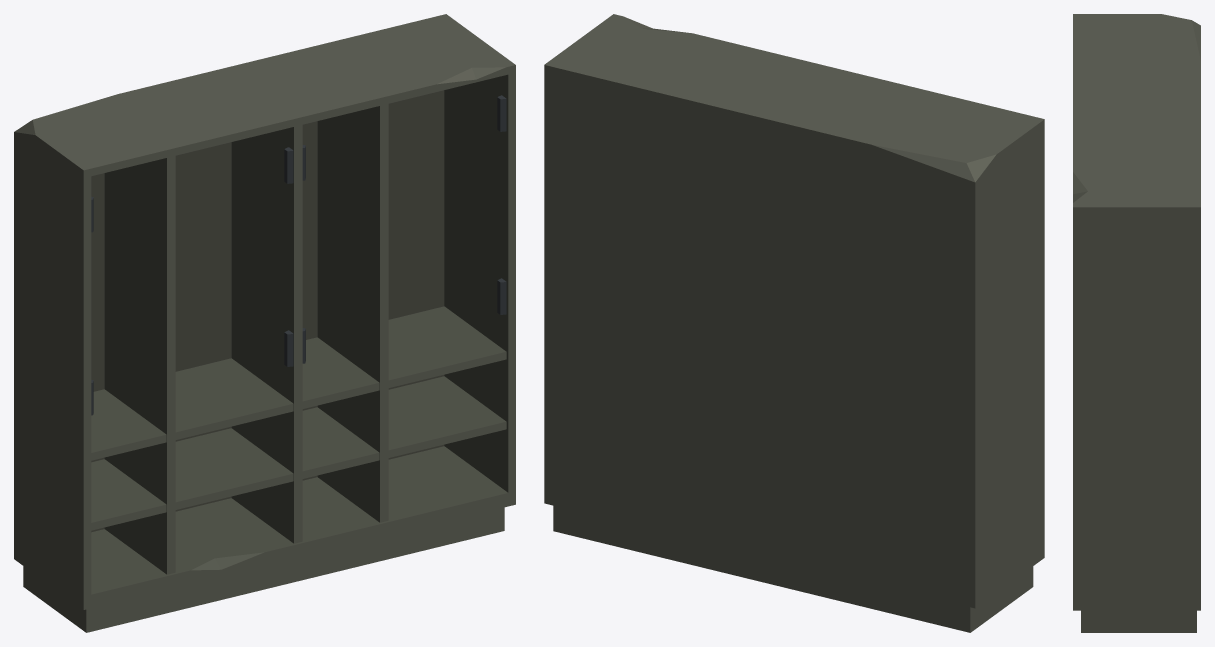
The model's file is SM_Prop_Lockers_01.glb.
The picture shows the model from 3 angles, left to right: view 1: azimuth 30°, elevation 25°; view 2: azimuth 150°, elevation 25°; view 3: azimuth 270°, elevation 25°; orthographic projection. The views are drawn at different scales.
Parts seen in each view (by area): view 1: SM_Prop_Lockers_01; view 2: SM_Prop_Lockers_01; view 3: SM_Prop_Lockers_01.
Part boxes in pixels (box(x1,y1,x2,y2)): SM_Prop_Lockers_01: box(14, 14, 515, 632); SM_Prop_Lockers_01: box(544, 14, 1044, 632); SM_Prop_Lockers_01: box(1073, 14, 1200, 632).
Bounding box in the file's own units: 2.2 × 2.28 × 0.615.
1 material, 1 textured.
